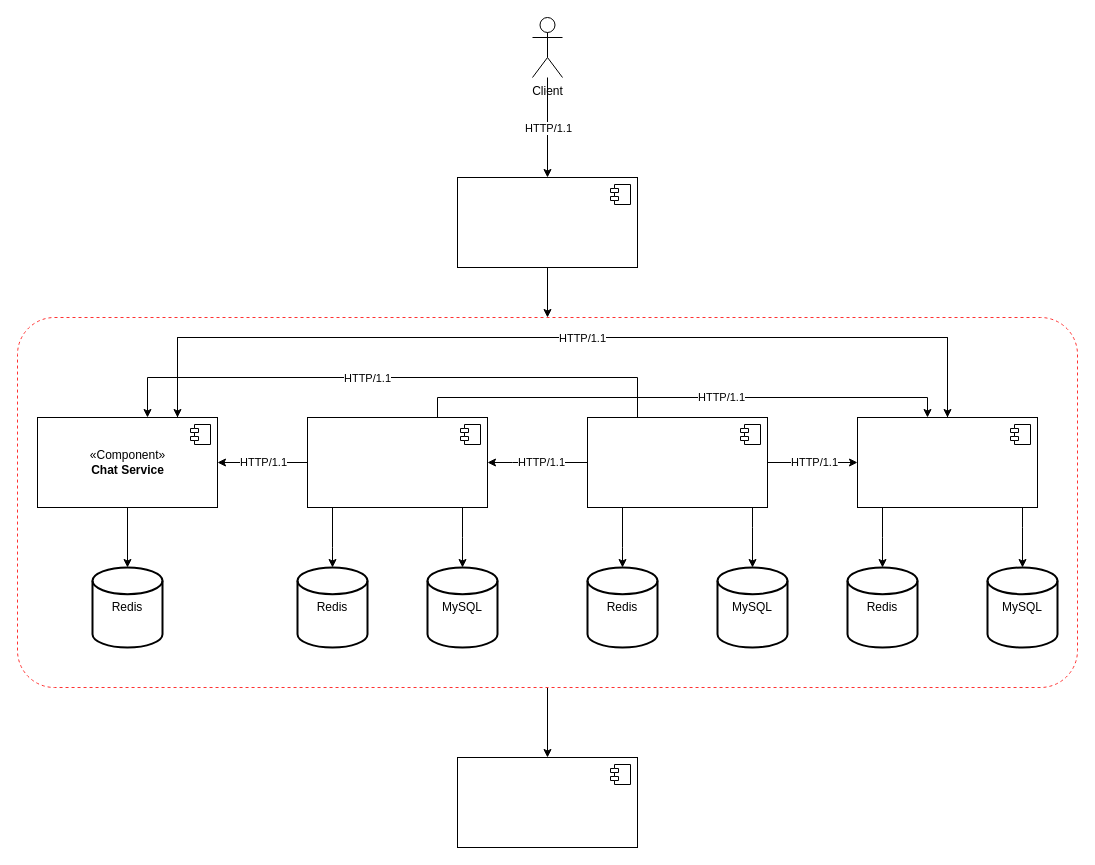
The diagram is 1095 pixels wide and 865 high, and some of its shapes have lost their labels. Each missing label, with the box of its shape:
«Component» Authentication Service: (856, 416, 1038, 508)
«Component» Gateway: (456, 176, 638, 268)
«Component» Lucky Money Service: (586, 416, 768, 508)
«Component» Payment Service: (306, 416, 488, 508)
«Component» Service Registry: (456, 756, 638, 848)
